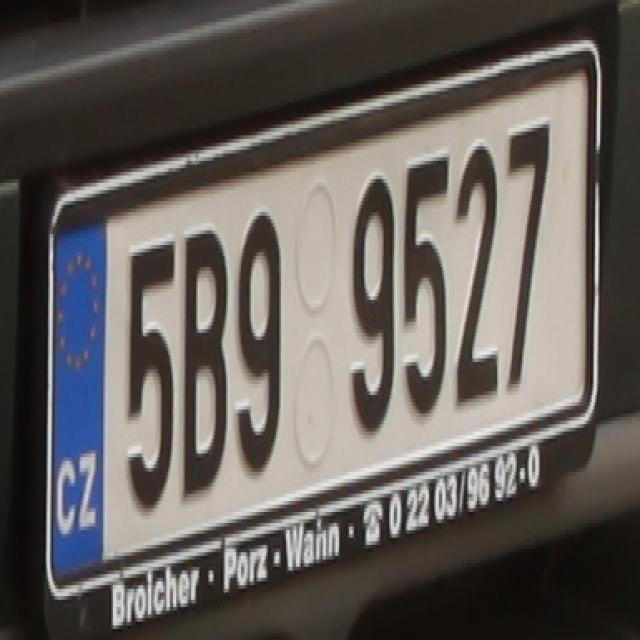2: (454, 132, 499, 398)
5: (126, 234, 176, 508), (402, 146, 450, 414)
7: (506, 120, 550, 388)
9: (235, 208, 288, 472), (350, 172, 396, 436)
B: (176, 220, 226, 498)
